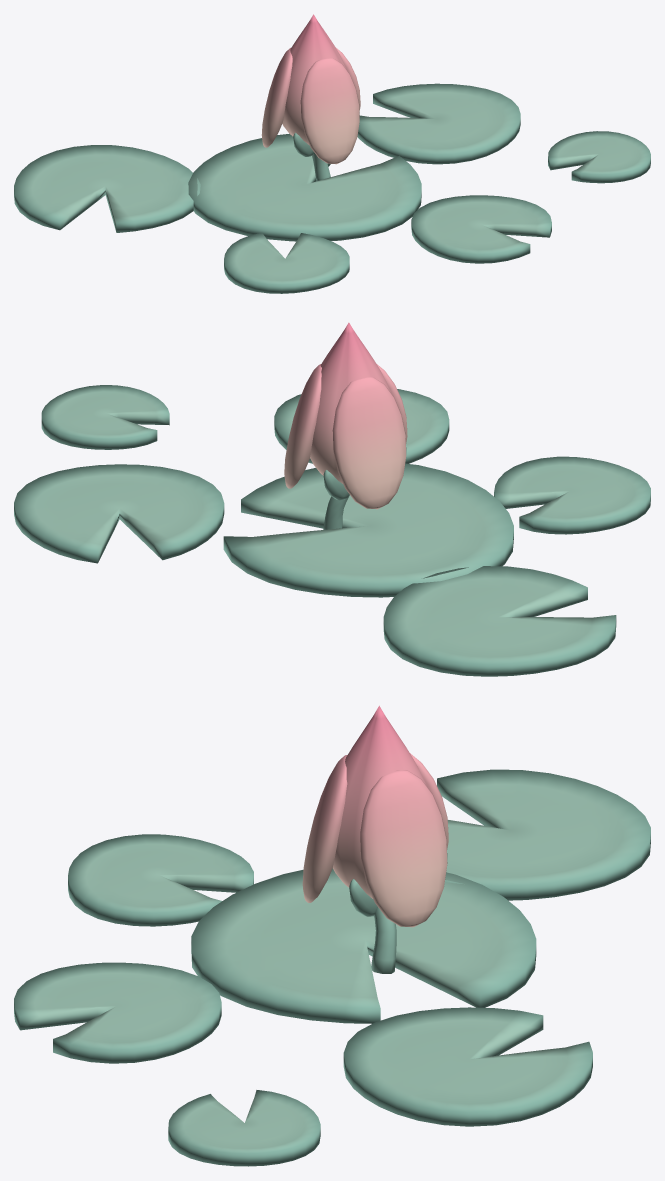
The model's file is lily-pads.glb.
The picture shows the model from 3 angles, top to bottom: view 1: azimuth 30°, elevation 25°; view 2: azimuth 150°, elevation 25°; view 3: azimuth 270°, elevation 25°; orthographic projection. The views are drawn at different scales.
Parts seen in each view (by area): view 1: lily-pads; view 2: lily-pads; view 3: lily-pads.
Boxes of the visible parts, bbox=[...] form: lily-pads: bbox=[14, 14, 650, 293]; lily-pads: bbox=[14, 322, 650, 676]; lily-pads: bbox=[14, 705, 650, 1166].
Size of the model in its own units: 2.5 by 0.788 by 1.76.
